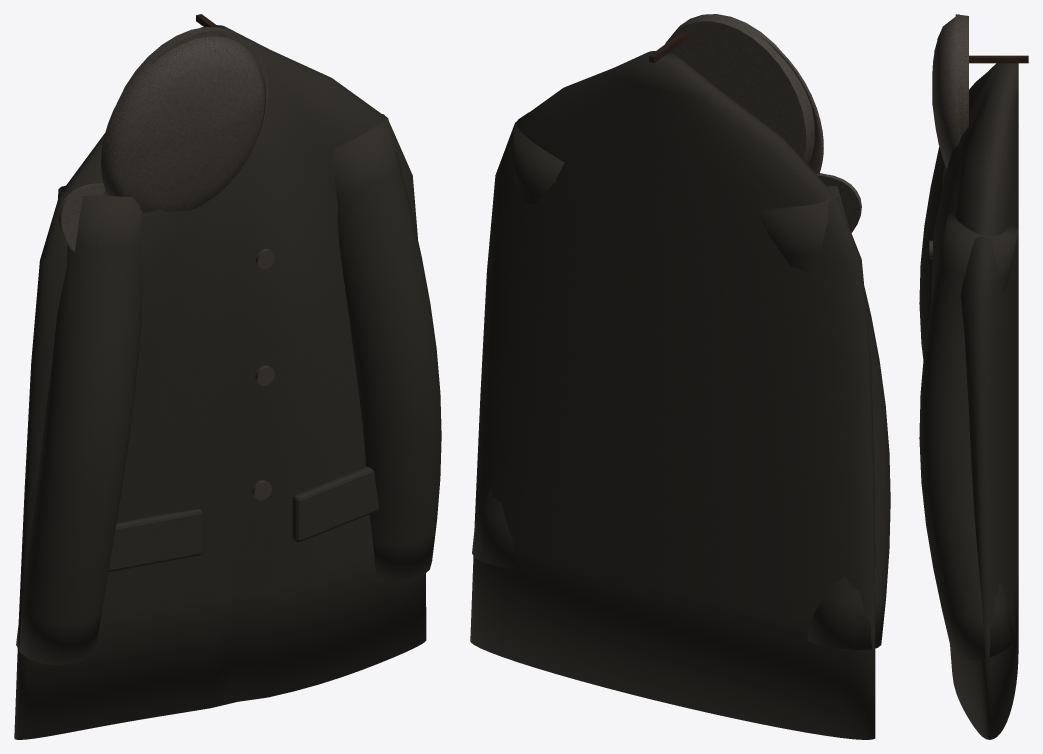
File: jacket-and-cap-on-nail.glb
3 renders of one model, left to right at view 1: azimuth 30°, elevation 25°; view 2: azimuth 150°, elevation 25°; view 3: azimuth 270°, elevation 25°, orthographic. The views are drawn at different scales.
Visible parts, largest first — view 1: jacket, cap; view 2: jacket, cap; view 3: jacket, cap, nail.
Part boxes in pixels (bbox=[...]): jacket: bbox=[14, 25, 441, 739]; cap: bbox=[58, 27, 268, 251]; jacket: bbox=[470, 51, 890, 739]; cap: bbox=[665, 14, 861, 232]; jacket: bbox=[919, 63, 1018, 739]; cap: bbox=[932, 14, 968, 169]; nail: bbox=[965, 55, 1028, 63].
Size of the model in its own units: 0.516 by 0.8146 by 0.1317.
Materials: 4 (3 with a texture image).
